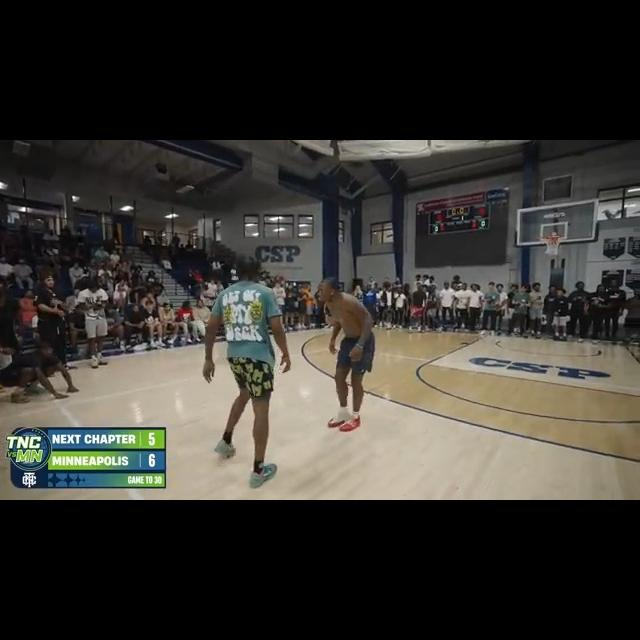hoop: (542, 233, 562, 257)
